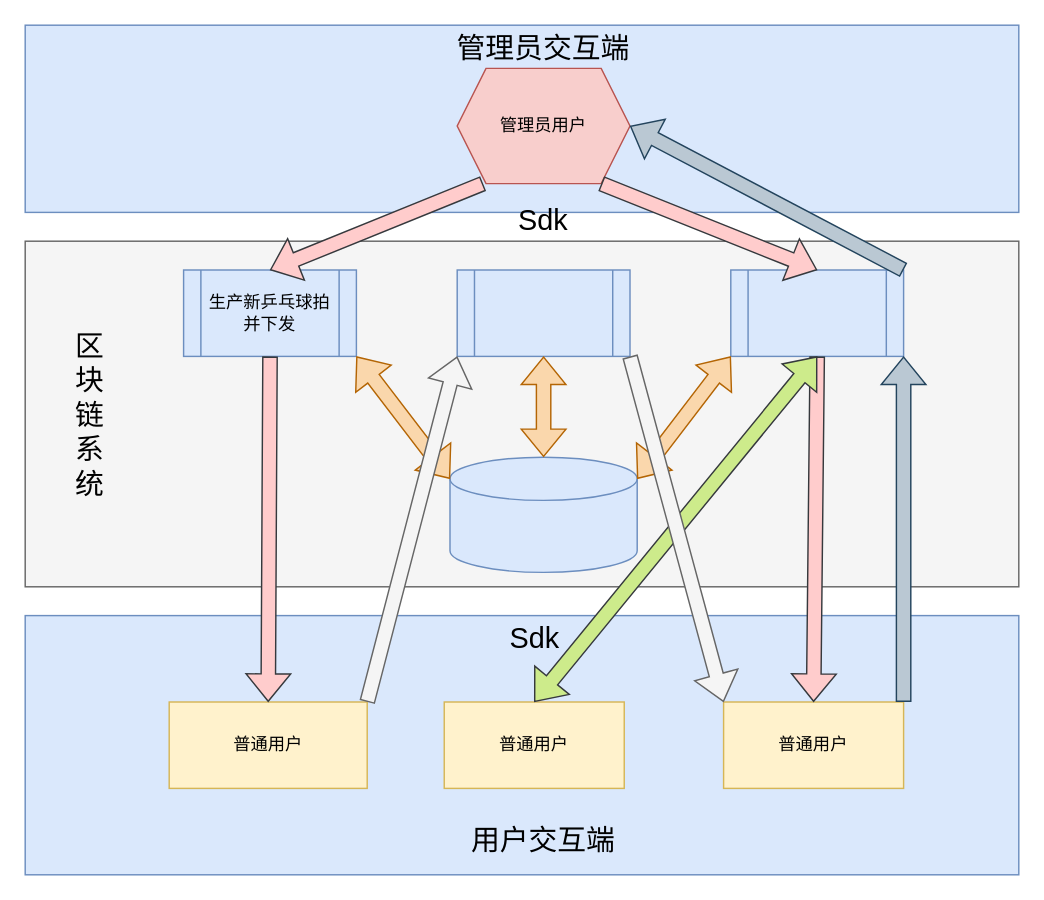
The diagram is 1044 pixels wide and 900 high, and some of its shapes have lost their labels. Here are the shapes that lost their labels. From the top down, the centre of each, then its label:
At point 543,312: "乒乓球拍交易".
At point 816,312: "检索一名用户名下的乒乓球拍".
At point 543,514: "Xuperchain可信存证".
